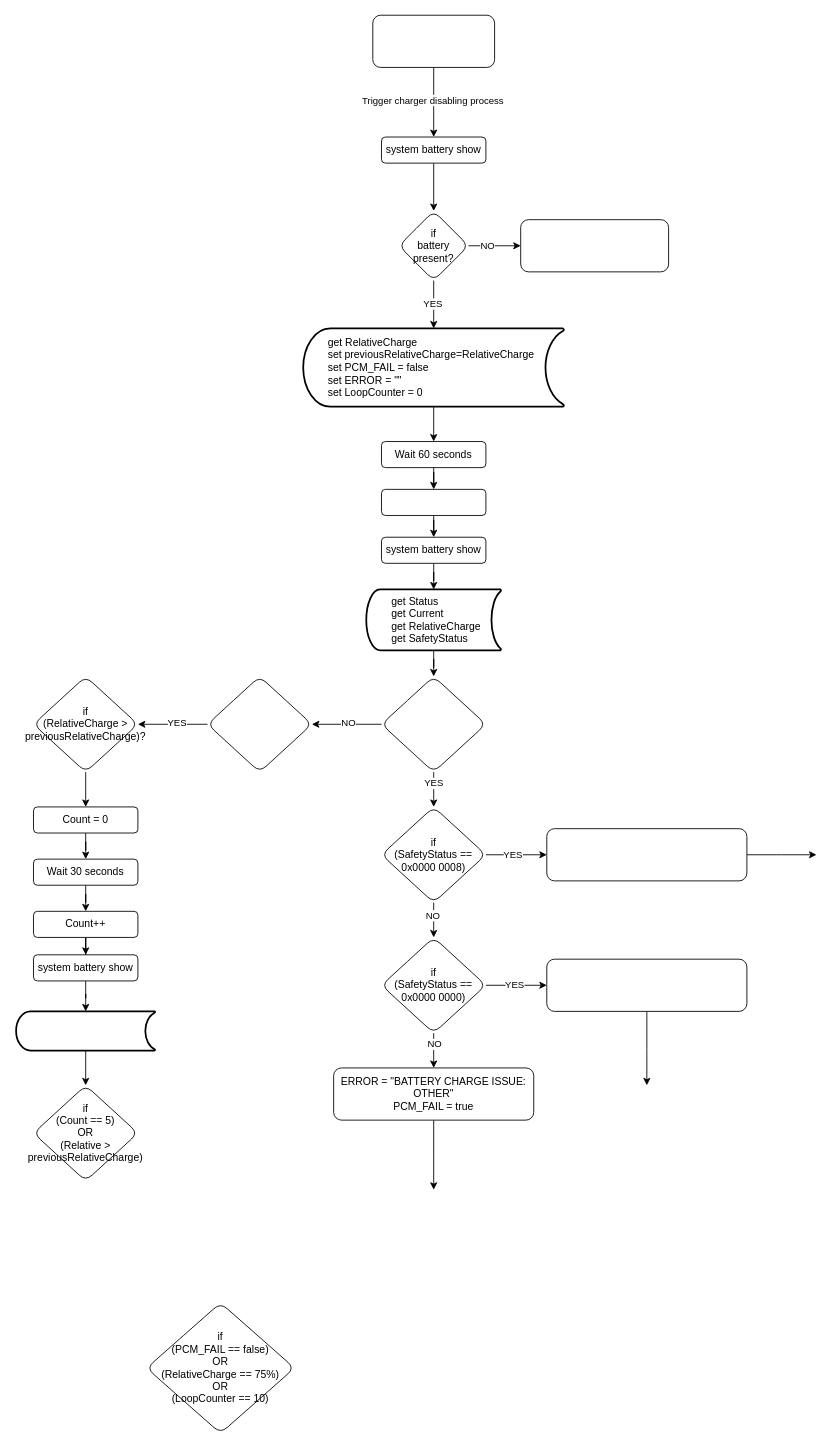
Image size: 839x1449. Some labels were removed from this diagram. Each missing label, with the centre of its shape:
EMS: "NO_CHARGE" OR "Battery Current High": (x=433, y=40)
ERROR = "BATTERY CHARGE ISSUE: HIGH CURRENT" PCM_FAIL = true: (x=646, y=854)
ERROR = "BATTERY CHARGE ISSUE: NOT CHARGING" PCM_FAIL = true: (x=646, y=984)
ERROR="Battery no present" PCM_FAIL = true: (x=594, y=245)
get RelativeCharge: (x=85, y=1030)
if (Current != 0 mA) AND (Status == Charging): (x=259, y=724)
if (Current == 0 mA) AND (Status == Ready): (x=433, y=724)
LoopCounter++: (x=433, y=502)
